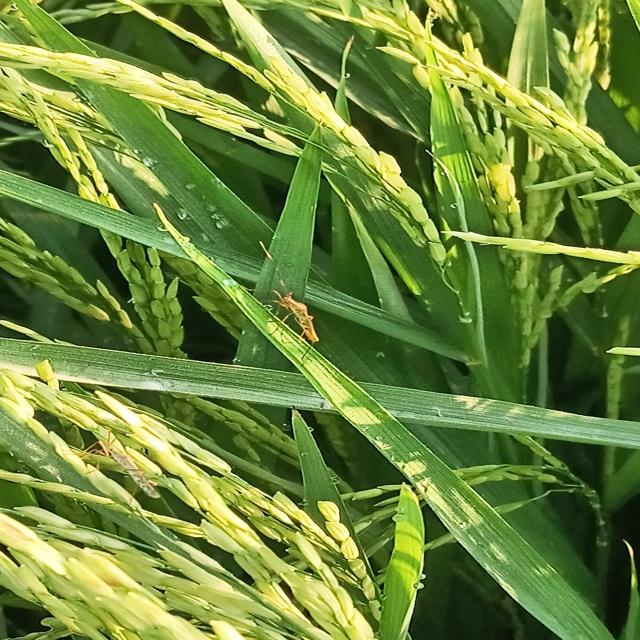green leaf hopper: (223, 240, 330, 371)
